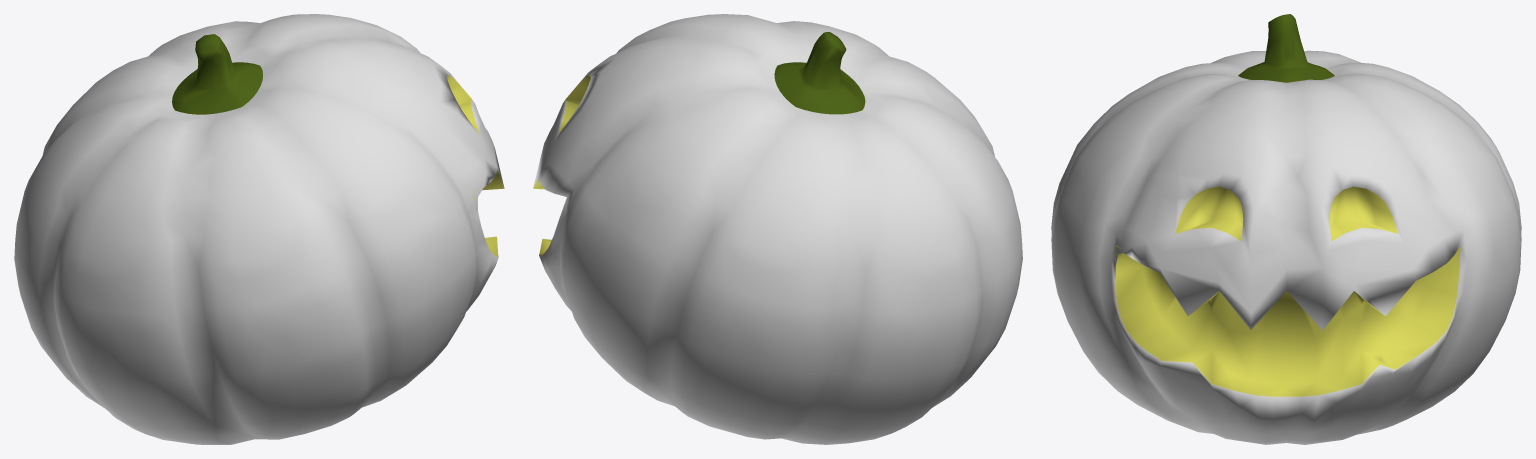
The model's file is Pumpkin.glb.
3 views of the same model, side by side, from view 1: azimuth 30°, elevation 25°; view 2: azimuth 150°, elevation 25°; view 3: azimuth 270°, elevation 25° (orthographic).
Parts seen in each view (by area): view 1: Mesh_13; view 2: Mesh_13; view 3: Mesh_13.
Boxes of the visible parts, <box> form: Mesh_13: <box>14,14,504,444</box>; Mesh_13: <box>533,14,1022,444</box>; Mesh_13: <box>1051,14,1521,444</box>.
Bounding box in the file's own units: 1.53 × 1.32 × 1.43.
